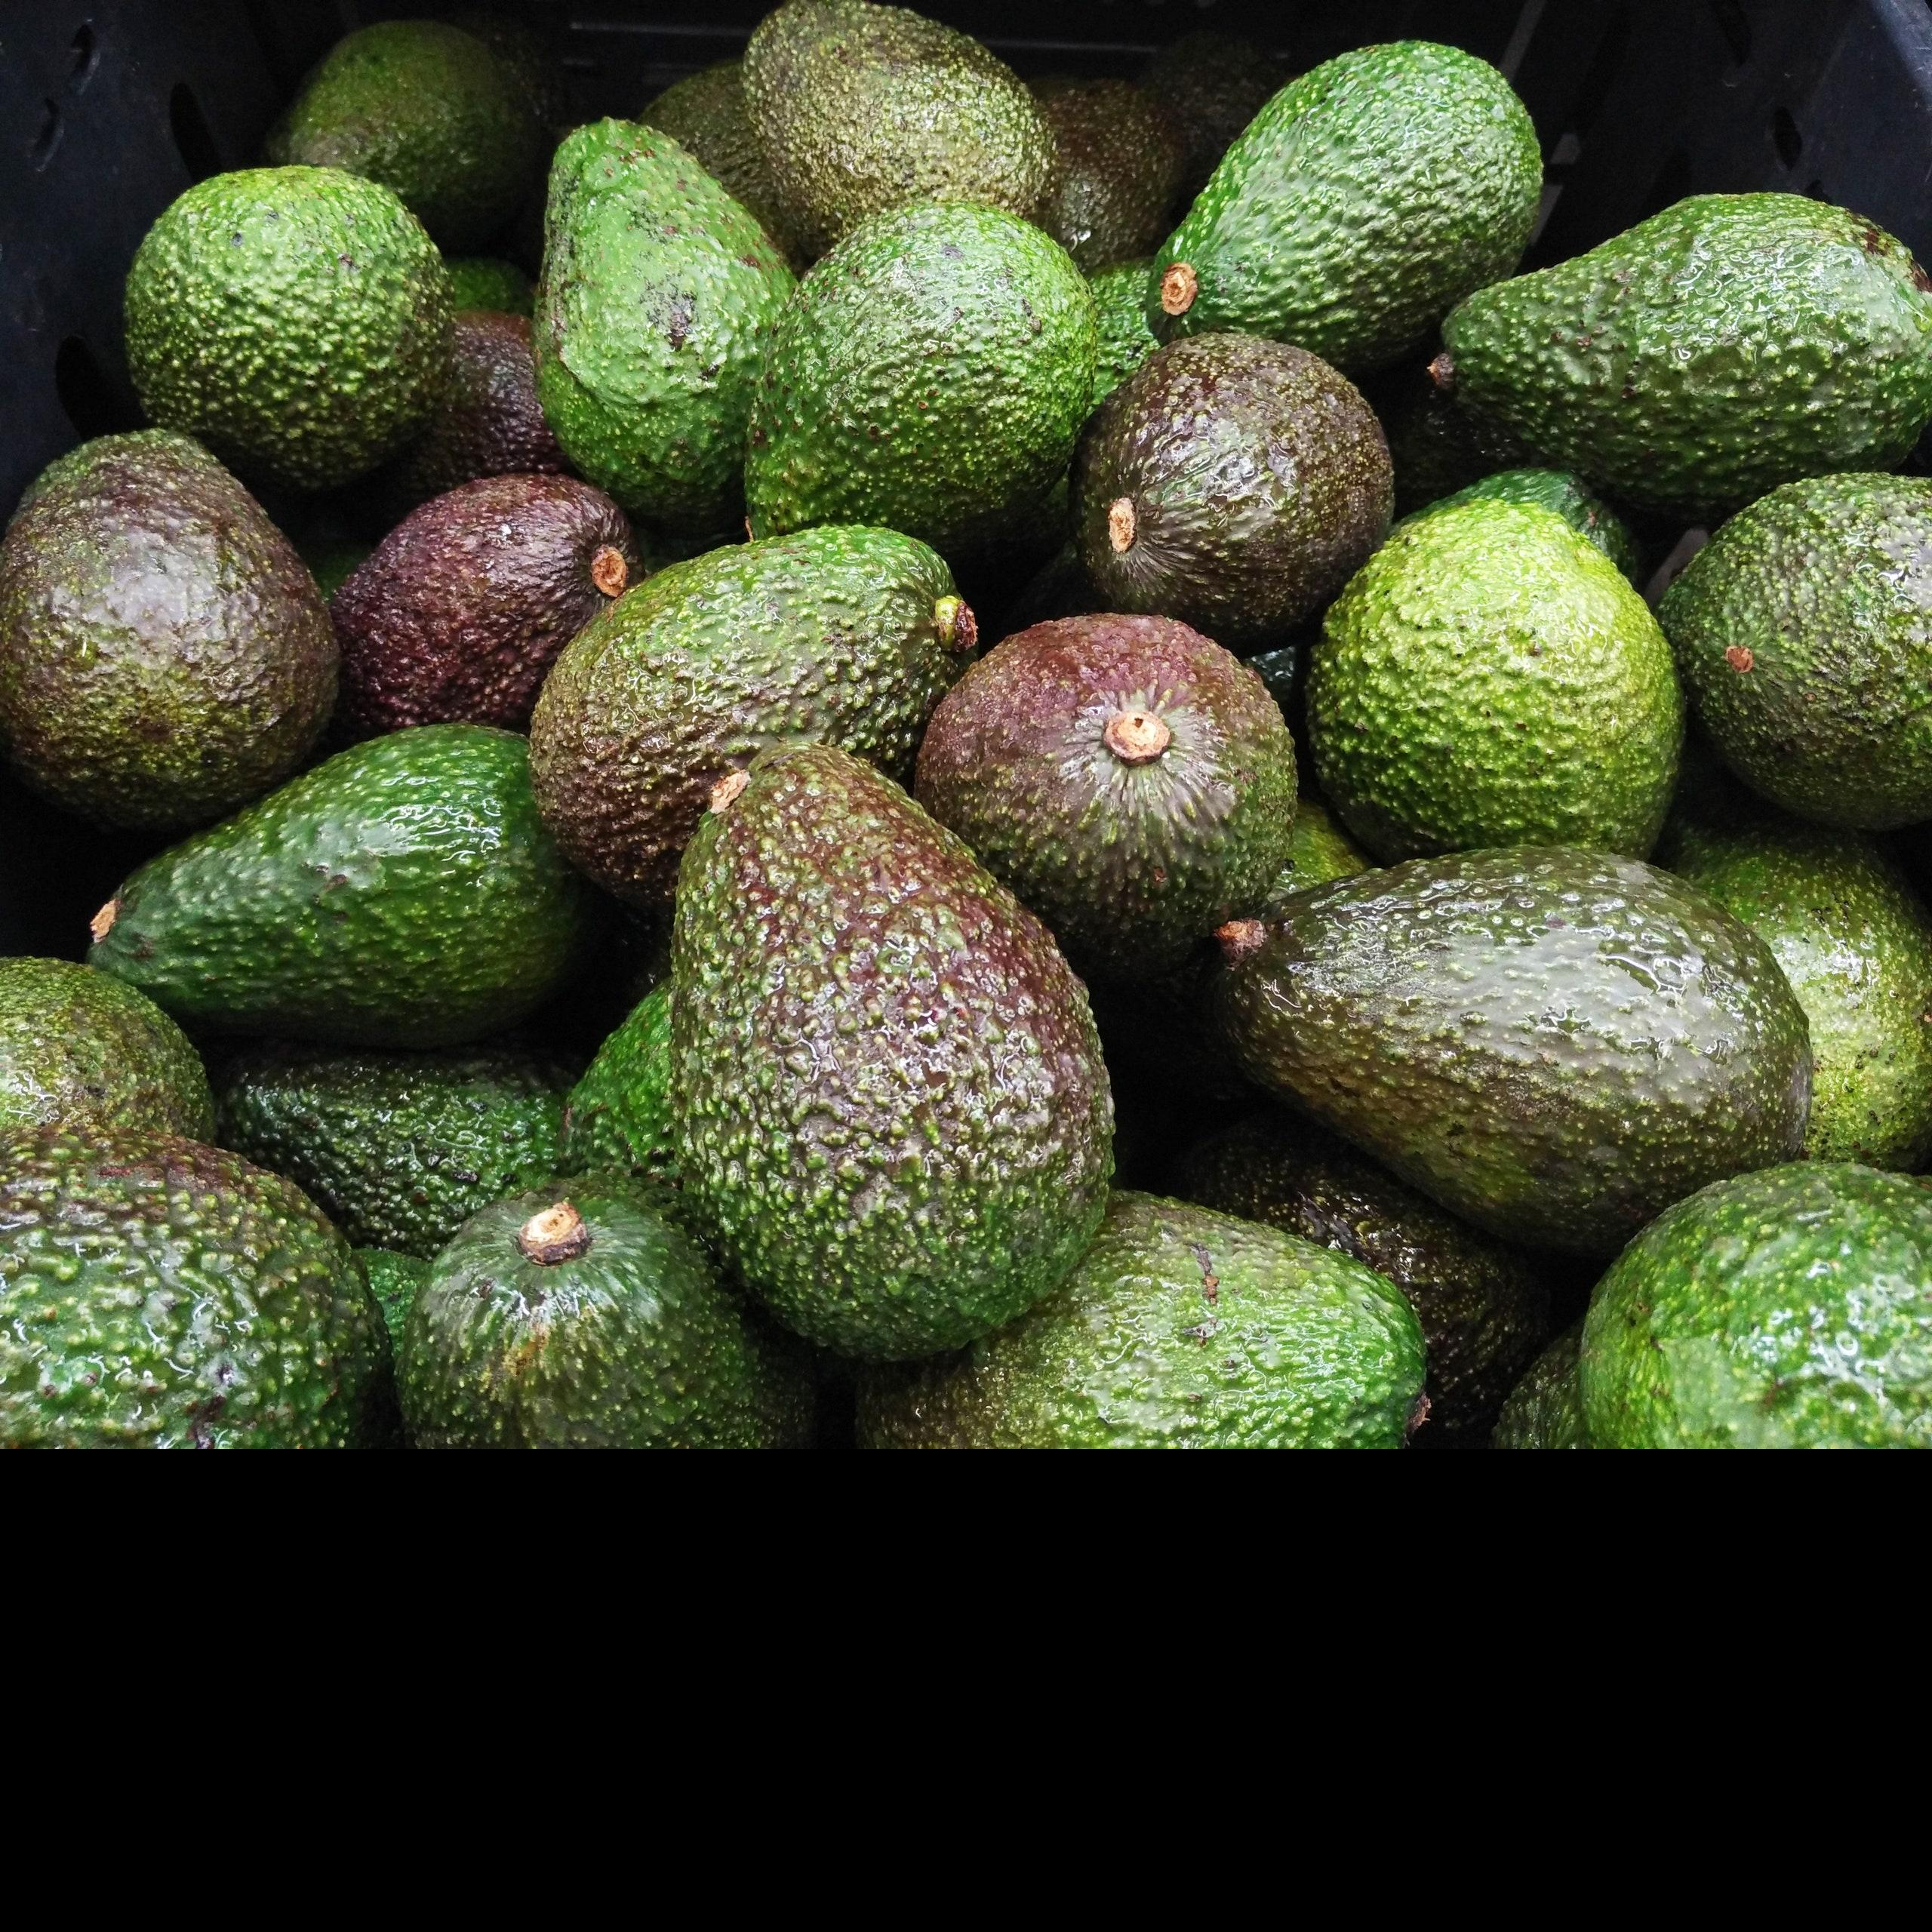almost: (1208, 846, 1817, 1258), (911, 614, 1299, 970), (4, 430, 341, 828), (1070, 333, 1392, 642)
ripe: (334, 472, 648, 738)
unripe: (671, 743, 1115, 1364), (527, 524, 982, 913), (1428, 193, 1932, 524), (87, 724, 598, 1047), (837, 1185, 1430, 1449), (1306, 502, 1688, 860), (1146, 41, 1541, 368), (2, 1123, 396, 1451), (745, 200, 1095, 550), (122, 165, 453, 502), (400, 1182, 816, 1449), (533, 117, 798, 533), (1656, 472, 1932, 840), (1578, 1162, 1916, 1447), (740, 0, 1060, 260), (214, 1047, 591, 1261), (272, 19, 534, 225), (0, 955, 216, 1141)
